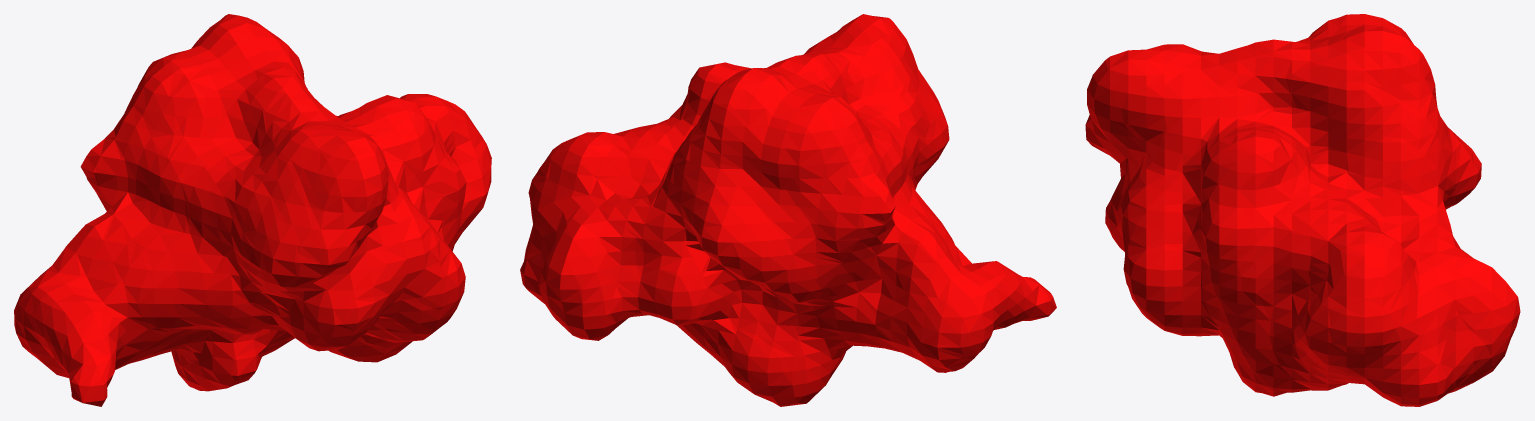
The model's file is hemX_coarse.dae.
3 renders of one model, left to right at view 1: azimuth 30°, elevation 25°; view 2: azimuth 150°, elevation 25°; view 3: azimuth 270°, elevation 25°, orthographic. The views are drawn at different scales.
Parts seen in each view (by area): view 1: hemX; view 2: hemX; view 3: hemX.
Part boxes in pixels (x1=…): hemX: x1=14, y1=14, x2=491, y2=406; hemX: x1=520, y1=14, x2=1056, y2=406; hemX: x1=1085, y1=14, x2=1520, y2=406.
Size of the model in its own units: 81.1 by 56.68 by 62.71.
